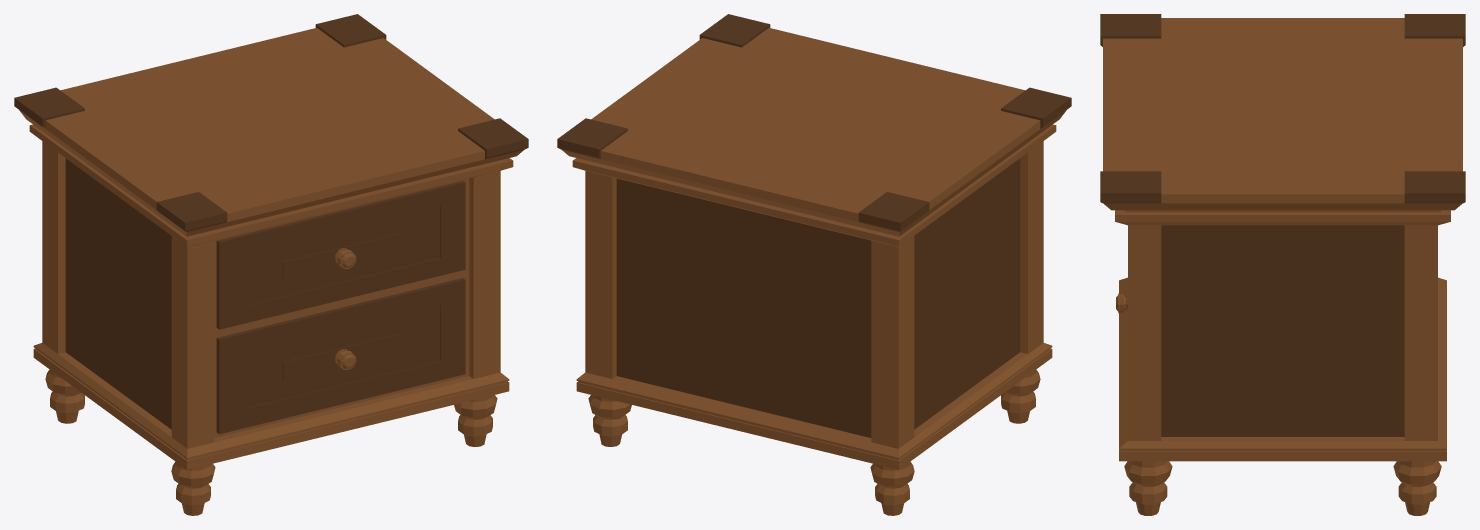
Rendered from NightStand.glb.
3 views of the same model, side by side, from view 1: azimuth 30°, elevation 25°; view 2: azimuth 150°, elevation 25°; view 3: azimuth 270°, elevation 25° (orthographic). The views are drawn at different scales.
Visible parts, largest first — view 1: Nightstand, BottomDrawer, TopDrawer; view 2: Nightstand; view 3: Nightstand.
Part boxes in pixels (x1=…): Nightstand: x1=14, y1=14, x2=528, y2=515; BottomDrawer: x1=216, y1=278, x2=465, y2=434; TopDrawer: x1=216, y1=181, x2=465, y2=329; Nightstand: x1=557, y1=14, x2=1071, y2=515; Nightstand: x1=1100, y1=14, x2=1465, y2=515.
Size of the model in its own units: 58.77 by 51.17 by 50.67.
